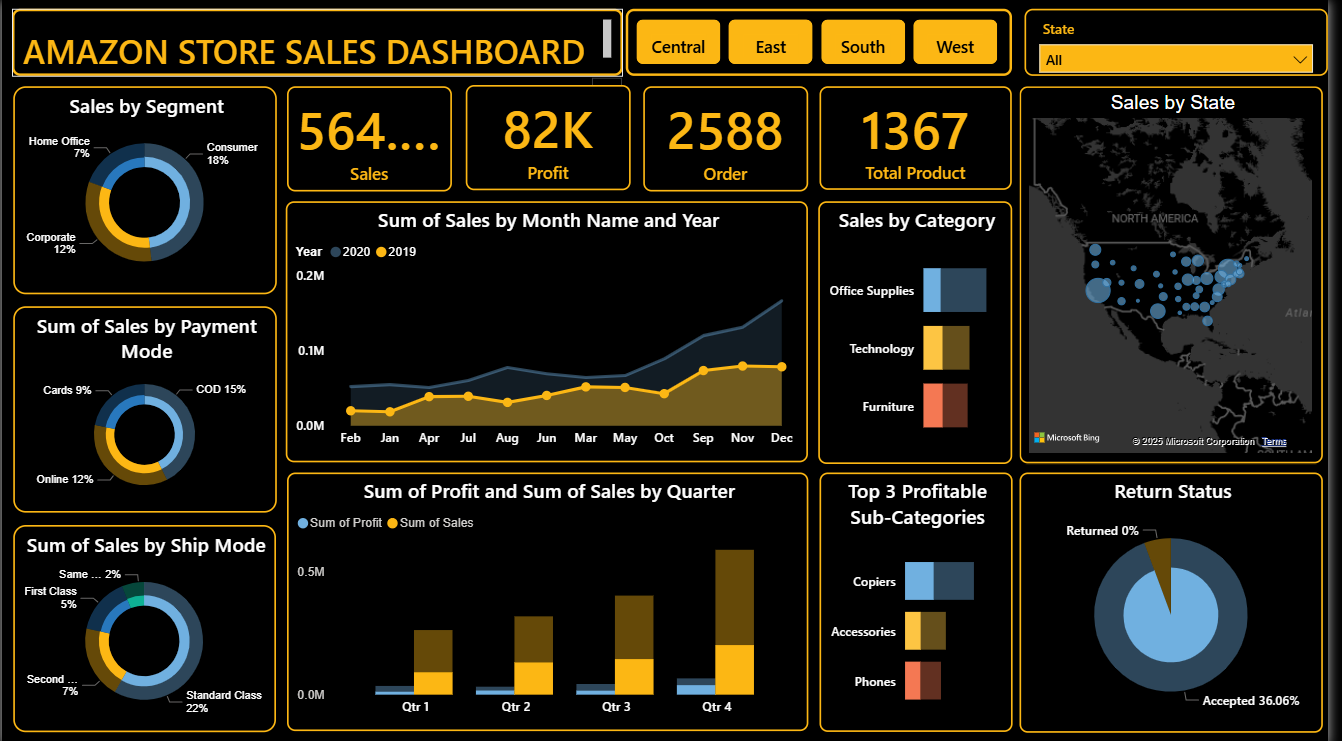

The page's visual inventory and layout, read from the dashboard file:
{"tool":"powerbi","page":{"name":"Page 1","canvas":[1280,720],"ordinal":0},"visuals":[{"type":"donutChart","title":"Sales by Segment","fields":{"Y":["Sum(Amazon Store Sales Data.Sales)"],"Category":["Amazon Store Sales Data.Segment"]},"box":[10.8,82.9,254.6,200.5],"z":0},{"type":"donutChart","fields":{"Y":["Sum(Amazon Store Sales Data.Sales)"],"Category":["Amazon Store Sales Data.Payment Mode"]},"box":[10.8,295.4,254.6,199.3],"z":1000},{"type":"donutChart","fields":{"Y":["Sum(Amazon Store Sales Data.Sales)"],"Category":["Amazon Store Sales Data.Ship Mode"]},"box":[11.2,506.2,253.8,200],"z":2000},{"type":"textbox","box":[9.7,8.4,589.9,65.1],"z":3000},{"type":"areaChart","fields":{"Y":["Sum(Amazon Store Sales Data.Sales)"],"Category":["Amazon Store Sales Data.Month Name"],"Series":["Amazon Store Sales Data.Year"]},"box":[273.9,194.2,504.3,252.1],"z":4000},{"type":"clusteredColumnChart","fields":{"Y":["Sum(Amazon Store Sales Data.Profit)","Sum(Amazon Store Sales Data.Sales)"],"Category":["Amazon Store Sales Data.Order Date.Variation.Date Hierarchy.Quarter"]},"box":[275.1,456,503.1,249.7],"z":5000},{"type":"advancedSlicerVisual","fields":{"Values":["Amazon Store Sales Data.Region"]},"box":[602,8.4,372.8,65.1],"z":6000},{"type":"clusteredBarChart","title":"Sales by Category","fields":{"Category":["Amazon Store Sales Data.Category"],"Y":["Sum(Amazon Store Sales Data.Sales)"]},"box":[788.2,193.6,187.4,253.2],"z":7000},{"type":"clusteredBarChart","title":"Top 3 Profitable Sub-Categories","fields":{"Category":["Amazon Store Sales Data.Sub-Category"],"Y":["Sum(Amazon Store Sales Data.Profit)"]},"box":[789.5,455.6,186.2,250.7],"z":8000},{"type":"card","fields":{"Values":["Sum(Amazon Store Sales Data.Sales)"]},"box":[275.1,83.2,159.3,101.3],"z":9000},{"type":"card","fields":{"Values":["Sum(Amazon Store Sales Data.Profit)"]},"box":[447.6,82,159.3,101.3],"z":10000},{"type":"card","fields":{"Values":["CountNonNull(Amazon Store Sales Data.Order ID)"]},"box":[618.9,83.2,159.3,101.3],"z":11000},{"type":"card","fields":{"Values":["Count(Amazon Store Sales Data.Product ID)"]},"box":[789,83.2,185.8,100.1],"z":12000},{"type":"map","title":"Sales by State","fields":{"Size":["Sum(Amazon Store Sales Data.Sales)"],"Category":["Amazon Store Sales Data.State"]},"box":[982,83.2,293.2,364.3],"z":13000},{"type":"slicer","fields":{"Values":["Amazon Store Sales Data.State"]},"box":[986.9,8.4,293.2,65.1],"z":13001},{"type":"pieChart","title":"Return Status","fields":{"Category":["Amazon Store Sales Data.Order Status"],"Y":["Sum(Amazon Store Sales Data.Sales)"]},"box":[982,456,293,251],"z":13002}]}

Visuals, with their boxes in screenshot pixels (x1, y1, x2, y2), scaled from the page's 1280x720 canvas onto the 1342x741 screenshot:
"Sales by Segment" donutChart: [x1=11, y1=85, x2=278, y2=292]
donutChart - Sum(Amazon Store Sales Data.Sales) x Amazon Store Sales Data.Payment Mode: [x1=11, y1=304, x2=278, y2=509]
donutChart - Sum(Amazon Store Sales Data.Sales) x Amazon Store Sales Data.Ship Mode: [x1=12, y1=521, x2=278, y2=727]
textbox: [x1=10, y1=9, x2=629, y2=76]
areaChart - Sum(Amazon Store Sales Data.Sales) x Amazon Store Sales Data.Month Name: [x1=287, y1=200, x2=816, y2=459]
clusteredColumnChart - Sum(Amazon Store Sales Data.Profit) x Sum(Amazon Store Sales Data.Sales): [x1=288, y1=469, x2=816, y2=726]
advancedSlicerVisual - Amazon Store Sales Data.Region: [x1=631, y1=9, x2=1022, y2=76]
"Sales by Category" clusteredBarChart: [x1=826, y1=199, x2=1023, y2=460]
"Top 3 Profitable Sub-Categories" clusteredBarChart: [x1=828, y1=469, x2=1023, y2=727]
card - Sum(Amazon Store Sales Data.Sales): [x1=288, y1=86, x2=455, y2=190]
card - Sum(Amazon Store Sales Data.Profit): [x1=469, y1=84, x2=636, y2=189]
card - CountNonNull(Amazon Store Sales Data.Order ID): [x1=649, y1=86, x2=816, y2=190]
card - Count(Amazon Store Sales Data.Product ID): [x1=827, y1=86, x2=1022, y2=189]
"Sales by State" map: [x1=1030, y1=86, x2=1337, y2=461]
slicer - Amazon Store Sales Data.State: [x1=1035, y1=9, x2=1341, y2=76]
"Return Status" pieChart: [x1=1030, y1=469, x2=1337, y2=728]
